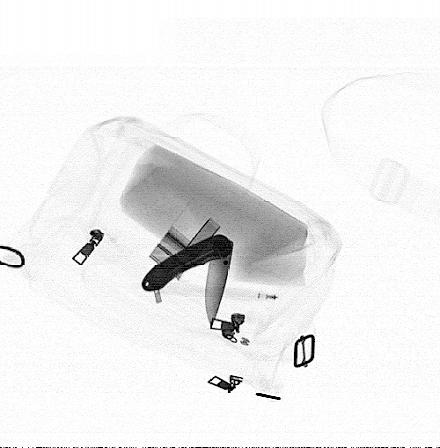Knife: (139, 231, 236, 331)
